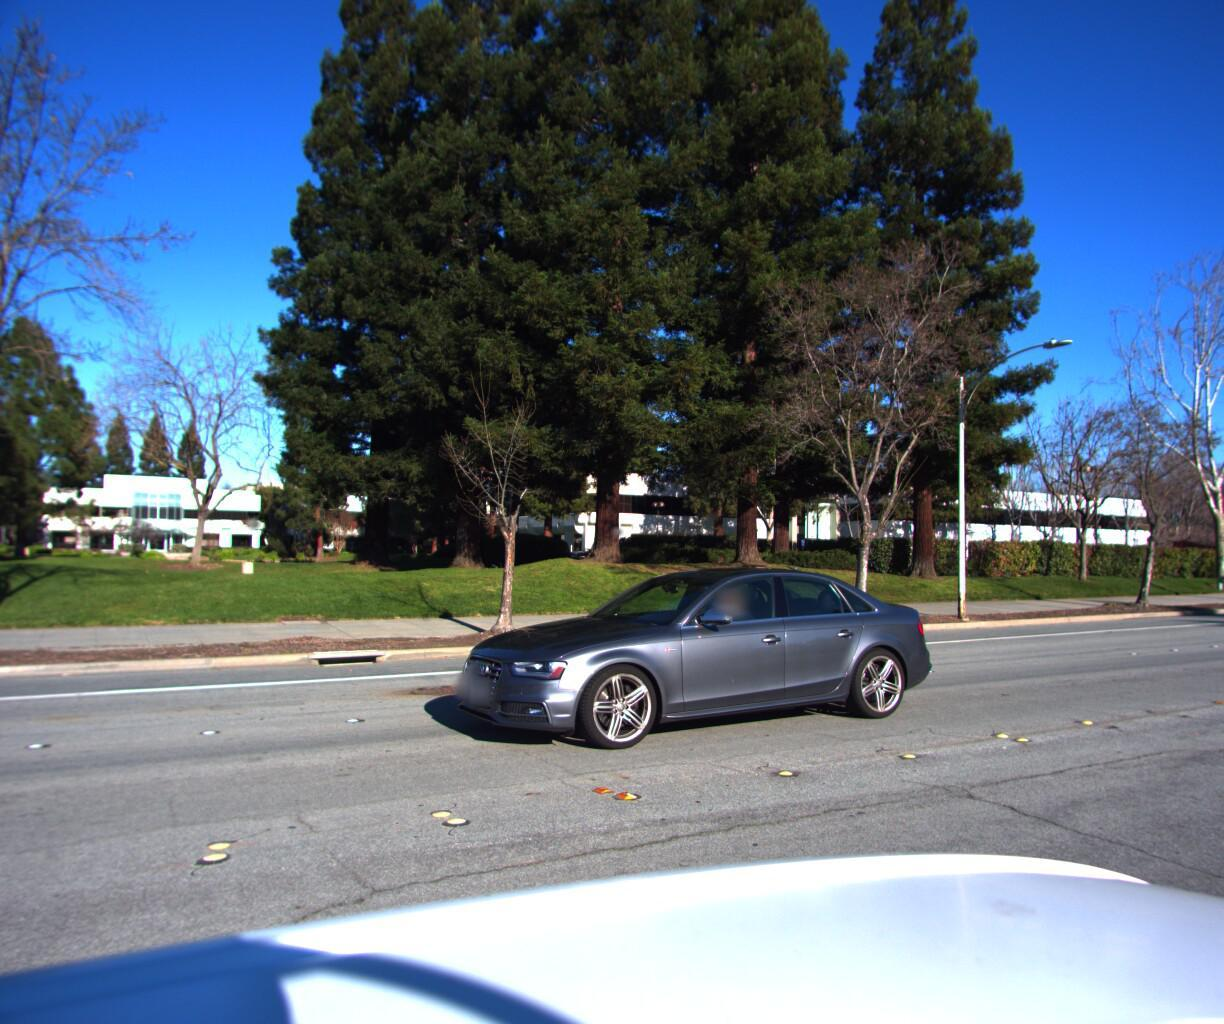car: (442, 562, 948, 768)
